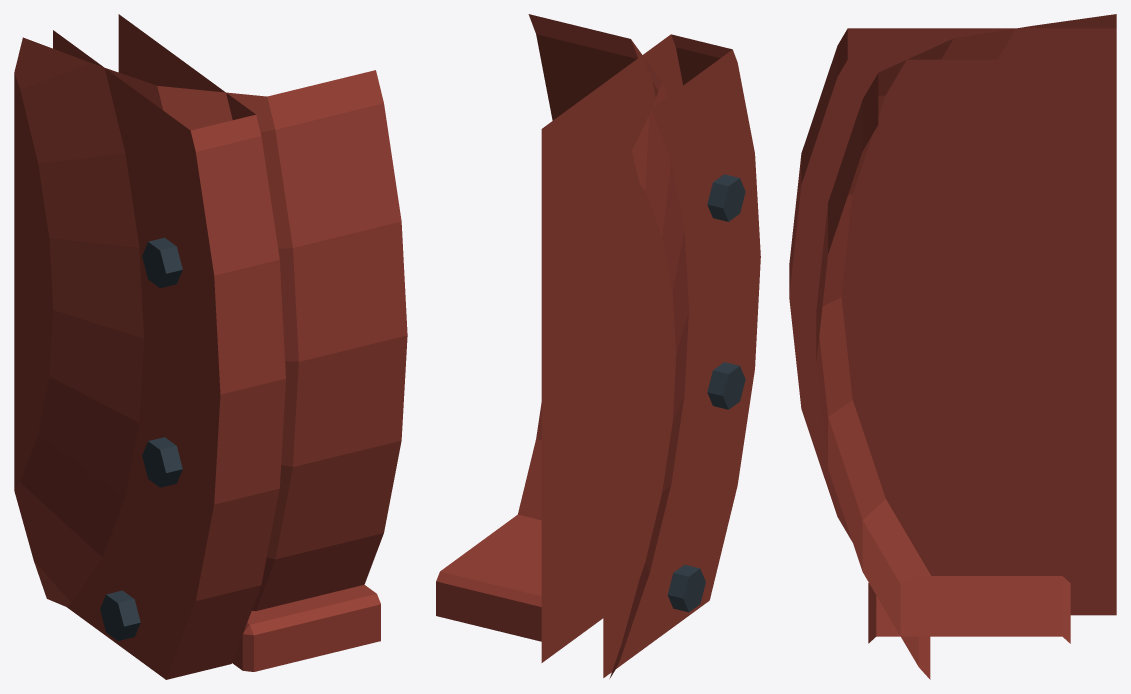
Rendered from cell_46.obj.
The picture shows the model from 3 angles, left to right: view 1: azimuth 30°, elevation 25°; view 2: azimuth 150°, elevation 25°; view 3: azimuth 270°, elevation 25°; orthographic projection. The views are drawn at different scales.
Bounding box in the file's own units: 0.4425 × 1 × 0.5346.
